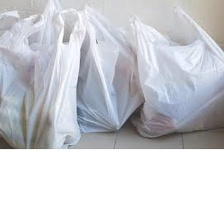plastic_bag: (33, 0, 147, 133), (123, 2, 223, 141), (0, 3, 88, 149)
